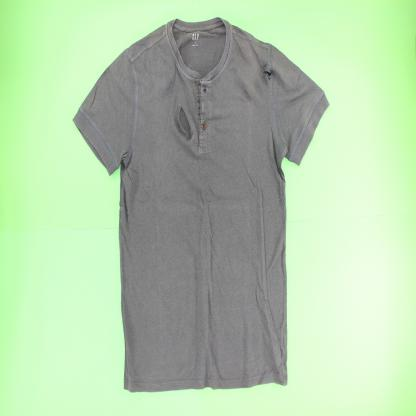hole: (176, 104, 194, 144), (261, 66, 273, 80)
